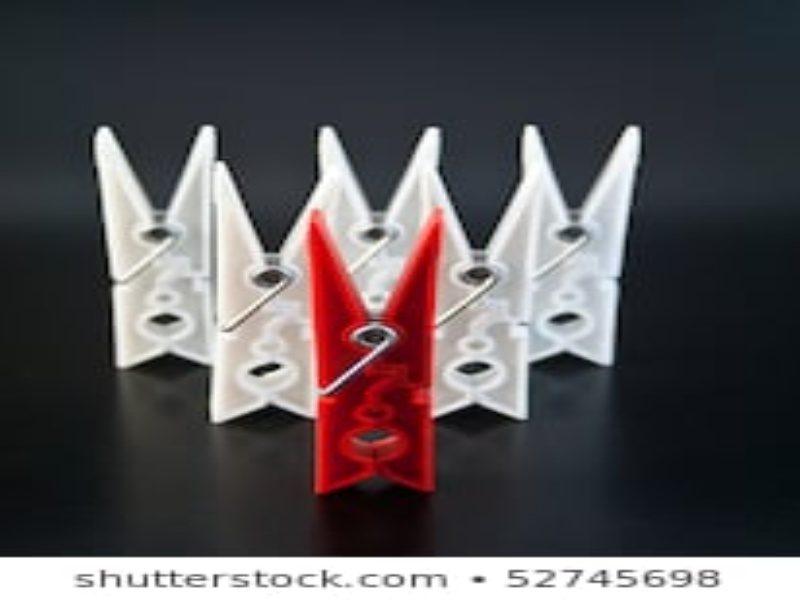plastic-peg: (300, 210, 452, 502), (86, 118, 222, 372), (518, 115, 644, 368), (420, 169, 534, 426), (212, 162, 321, 428), (313, 124, 444, 316)
